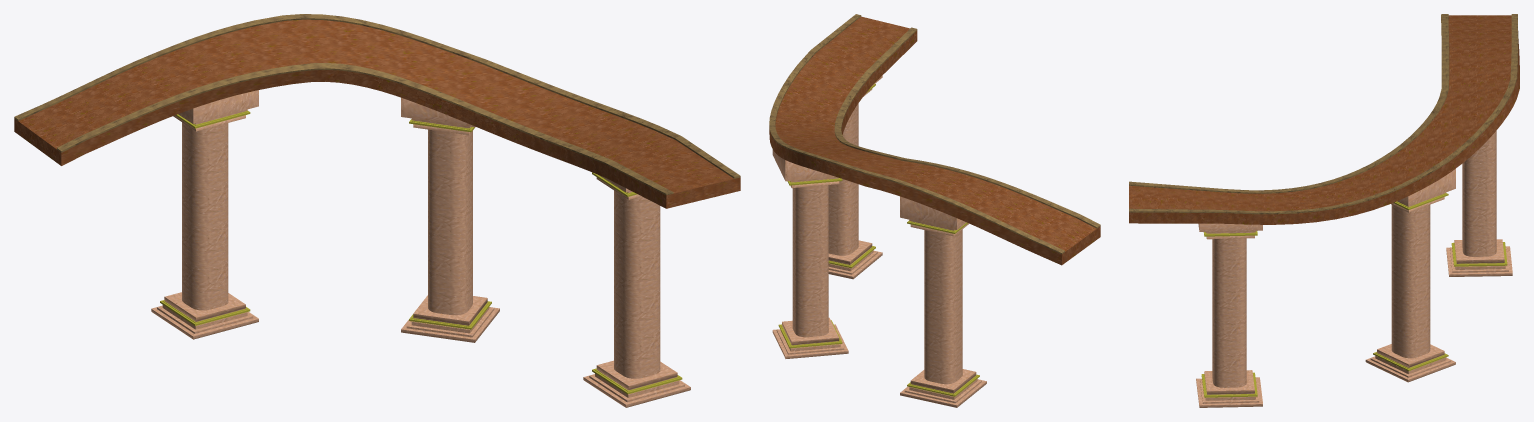
Rendered from Puente3.fbx.
The picture shows the model from 3 angles, left to right: view 1: azimuth 30°, elevation 25°; view 2: azimuth 150°, elevation 25°; view 3: azimuth 270°, elevation 25°; orthographic projection. The views are drawn at different scales.
Parts seen in each view (by area): view 1: Cube.006; view 2: Cube.006; view 3: Cube.006.
Part boxes in pixels (bbox=[...]): Cube.006: bbox=[14, 14, 740, 407]; Cube.006: bbox=[769, 14, 1100, 407]; Cube.006: bbox=[1129, 14, 1519, 407].
Bounding box in the file's own units: 3919 × 2209 × 3332.
2 materials, 2 textured.
